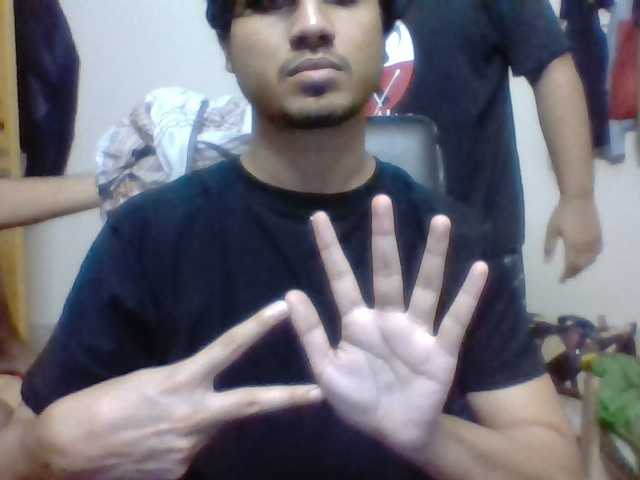N: (183, 295, 284, 428)
